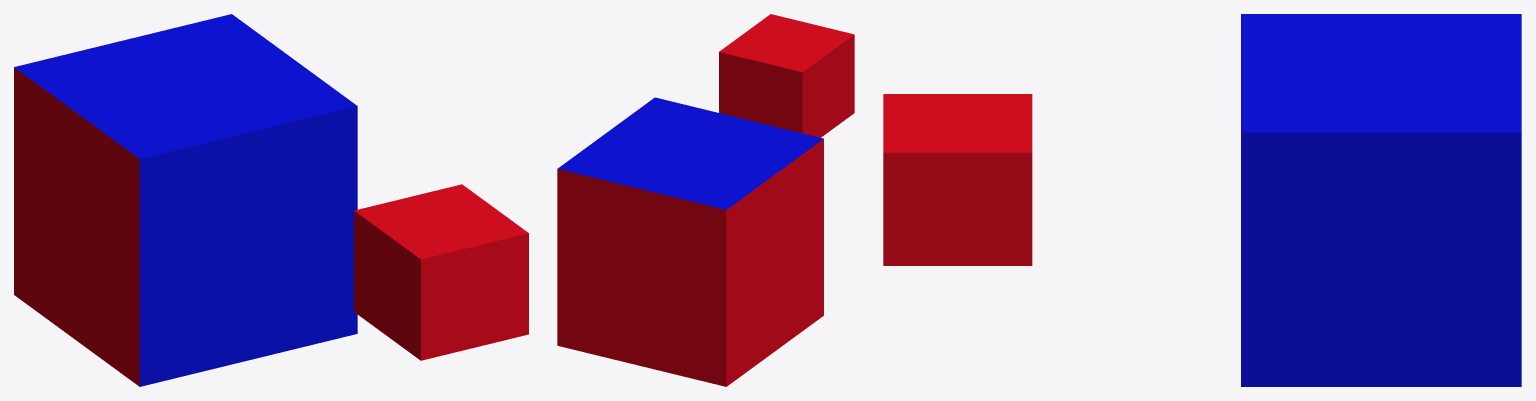
File: 2Primitives.glb
3 renders of one model, left to right at view 1: azimuth 30°, elevation 25°; view 2: azimuth 150°, elevation 25°; view 3: azimuth 270°, elevation 25°, orthographic. The views are drawn at different scales.
Visible parts, largest first — view 1: Cube; view 2: Cube; view 3: Cube.
Part boxes in pixels (x1,y1,x2,y2): Cube: (14, 14, 528, 386); Cube: (557, 14, 854, 386); Cube: (883, 14, 1521, 386).
Bounding box in the file's own units: 2.1 × 2 × 4.55.
